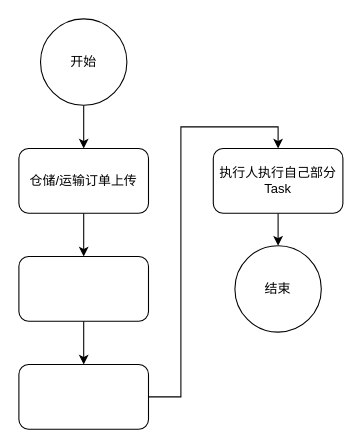
This 362x448 diagram has some shape labels left out. Each missing label, with the centre of its shape:
各执行人收到相关JOB: the point at 83,396
合并订单为JOB: the point at 83,288
